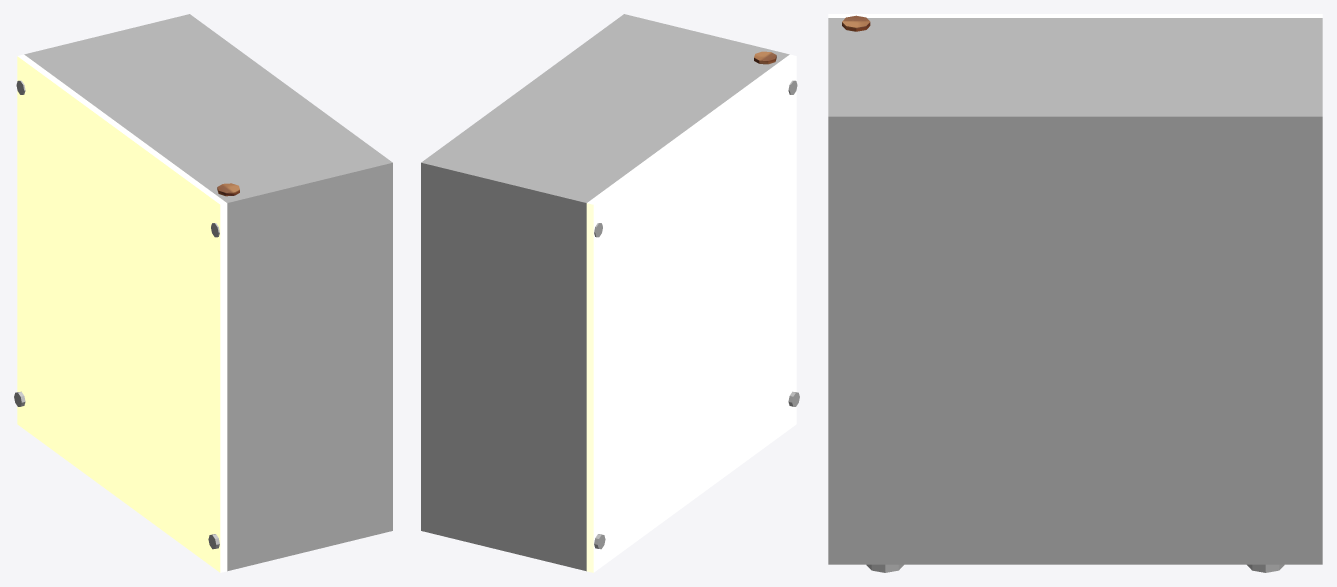
3 views of the same model, side by side, from view 1: azimuth 30°, elevation 25°; view 2: azimuth 150°, elevation 25°; view 3: azimuth 270°, elevation 25° (orthographic). The views are drawn at different scales.
Parts seen in each view (by area): view 1: Pc1_C2; view 2: Pc1_C2; view 3: Pc1_C2.
Boxes of the visible parts, x1,y1,x2,y2 form: Pc1_C2: [14, 14, 392, 572]; Pc1_C2: [421, 14, 799, 572]; Pc1_C2: [828, 14, 1322, 572].
Bounding box in the file's own units: 26.05 × 54.47 × 52.
